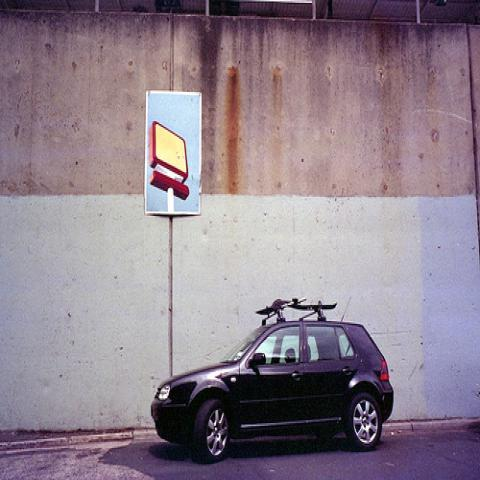car: (150, 297, 394, 462)
